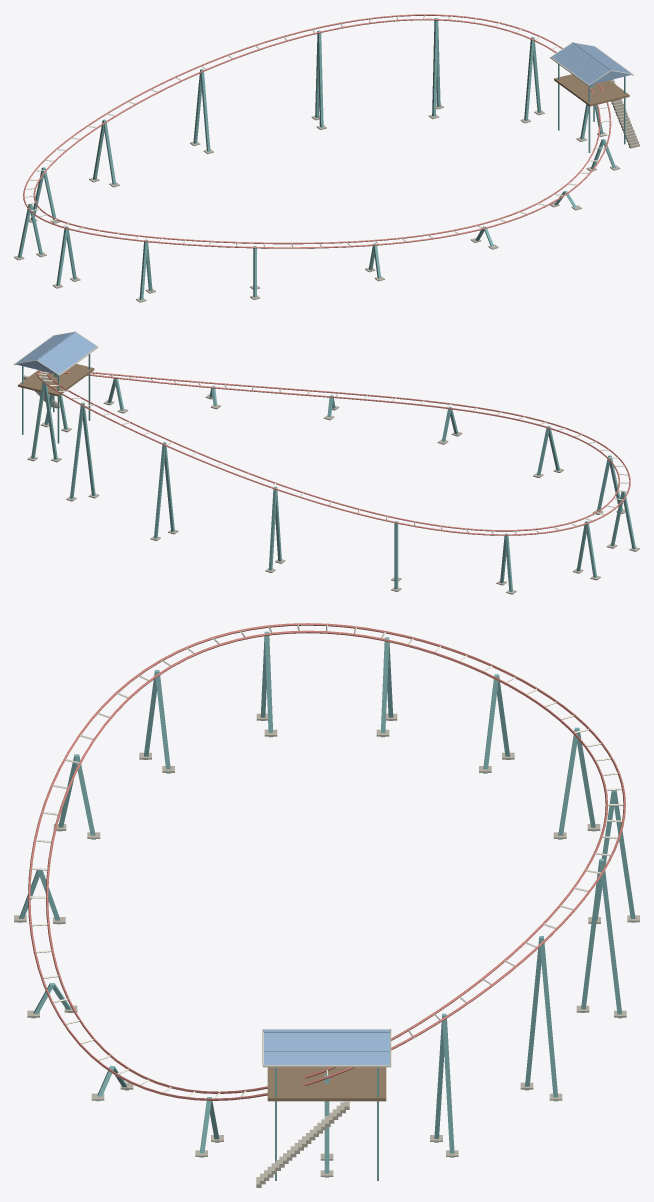
The picture shows the model from 3 angles, top to bottom: view 1: azimuth 30°, elevation 25°; view 2: azimuth 150°, elevation 25°; view 3: azimuth 270°, elevation 25°; orthographic projection. The views are drawn at different scales.
Size of the model in its own units: 132 by 21.11 by 73.7.
